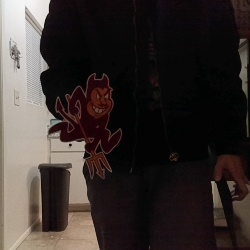sparky: (47, 73, 122, 179)
